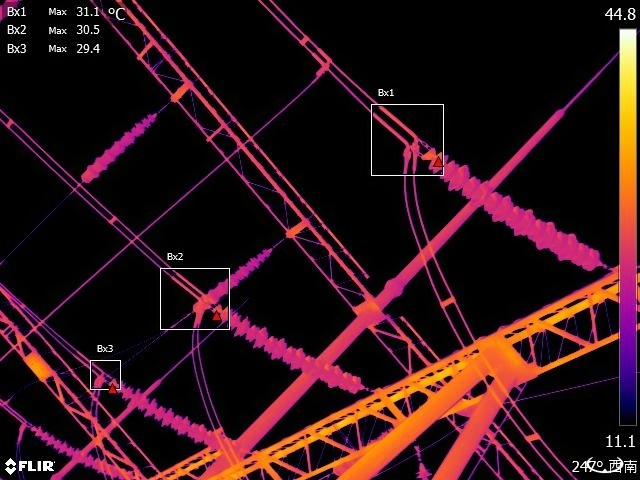clamp: (182, 291, 211, 333), (398, 127, 426, 163), (304, 55, 341, 80), (12, 408, 29, 441), (93, 371, 111, 388)
insulator: (444, 150, 597, 271), (215, 309, 368, 397), (121, 383, 230, 453), (75, 110, 165, 183), (32, 425, 131, 480), (207, 246, 277, 302)
